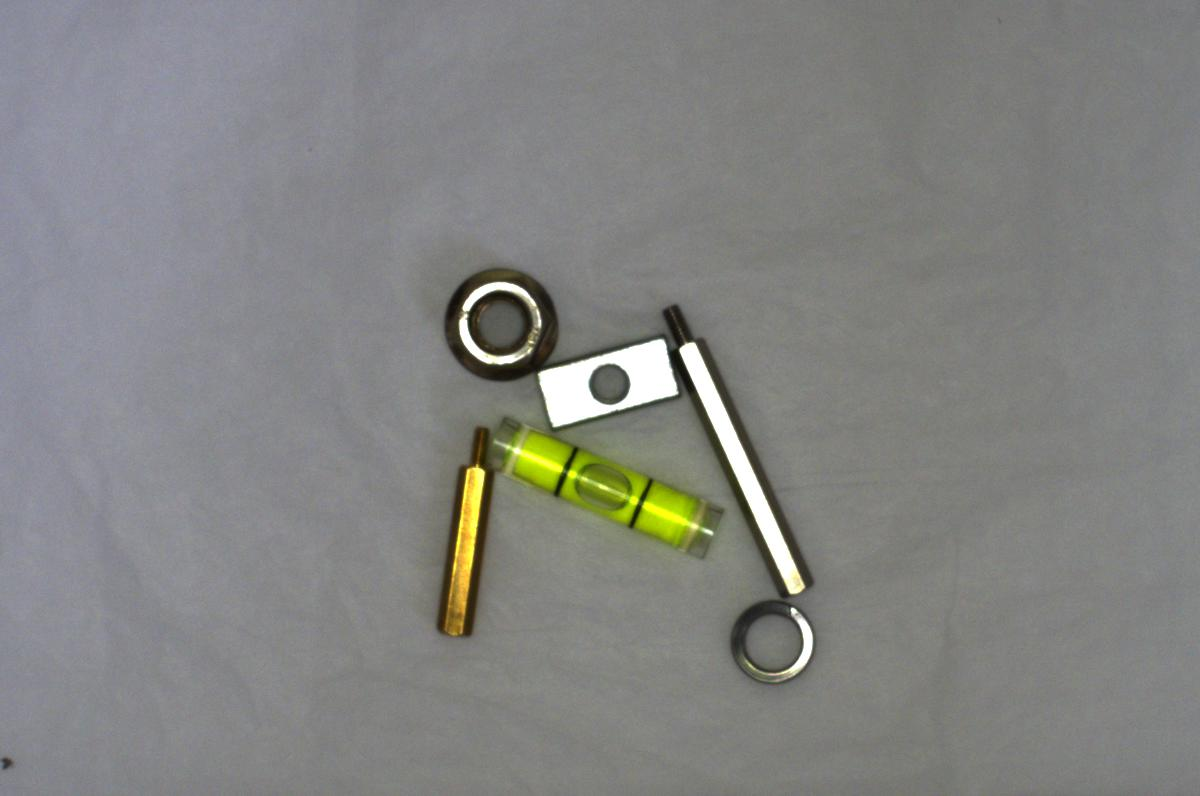Flange nut: (438, 261, 559, 376)
Hexagon pillar: (421, 416, 498, 636)
Hexagonal steel column: (655, 293, 805, 592)
Horizontal bubble: (470, 413, 734, 560)
Rectangular nut: (533, 332, 681, 435)
Spring washer: (725, 590, 817, 689)
